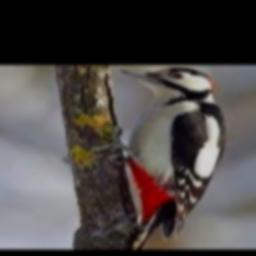Woodpecker: (99, 67, 227, 250)
